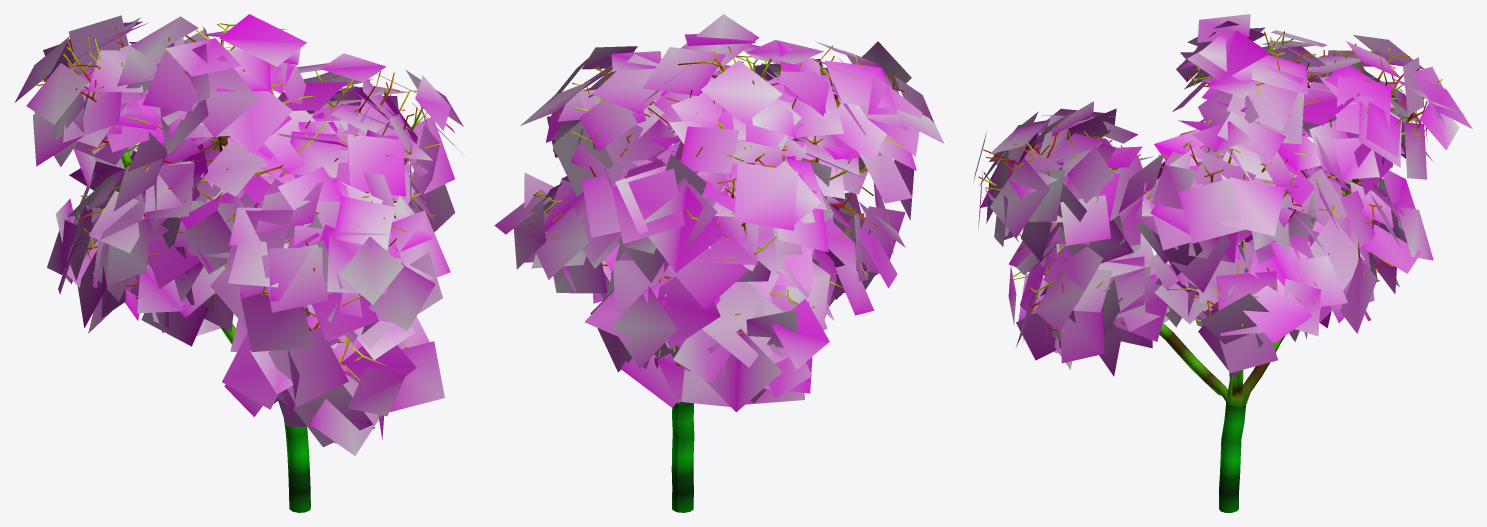
Rendered from Tree_A2.fbx.
The picture shows the model from 3 angles, left to right: view 1: azimuth 30°, elevation 25°; view 2: azimuth 150°, elevation 25°; view 3: azimuth 270°, elevation 25°; orthographic projection. The views are drawn at different scales.
Parts seen in each view (by area): view 1: Tree_A2_LOD0; view 2: Tree_A2_LOD0; view 3: Tree_A2_LOD0.
Part boxes in pixels (left/top/right/bottom): Tree_A2_LOD0: left=14, top=14, right=464, bottom=512; Tree_A2_LOD0: left=494, top=14, right=944, bottom=512; Tree_A2_LOD0: left=973, top=14, right=1472, bottom=512.
Size of what is drawn, in the model's own units: 9.81 by 12.45 by 12.63.
